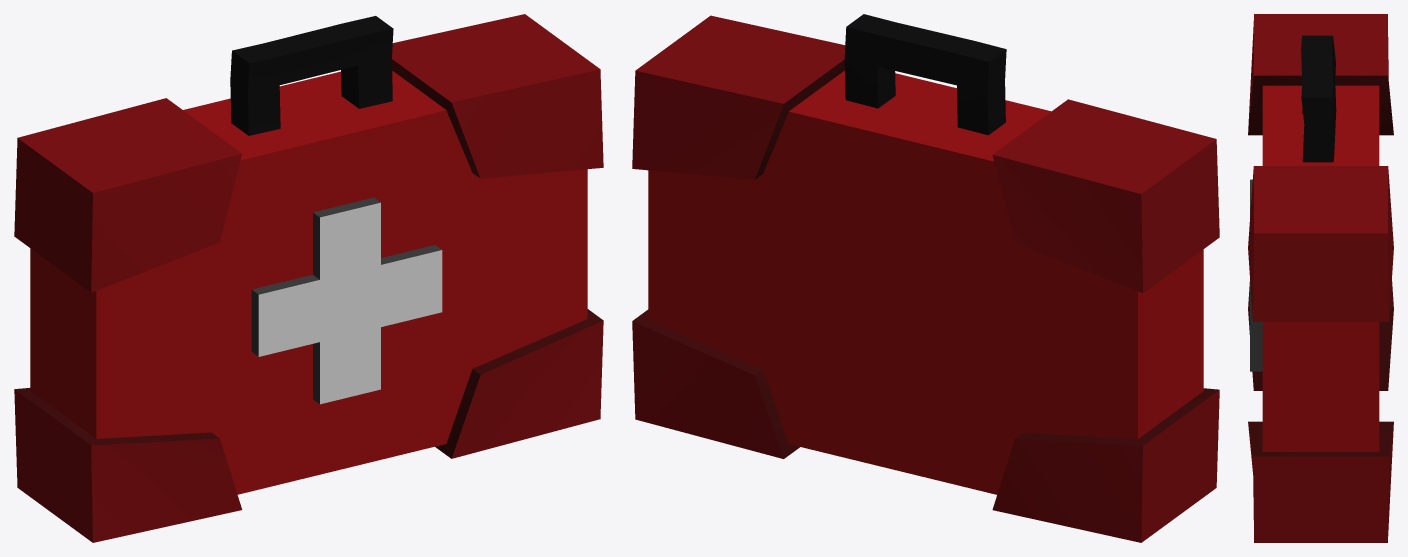
The model's file is MEDICAL_KIT_00I.fbx.
The picture shows the model from 3 angles, left to right: view 1: azimuth 30°, elevation 25°; view 2: azimuth 150°, elevation 25°; view 3: azimuth 270°, elevation 25°; orthographic projection. The views are drawn at different scales.
Visible parts, largest first — view 1: MEDICAL_KIT_00I; view 2: MEDICAL_KIT_00I; view 3: MEDICAL_KIT_00I.
Part boxes in pixels (x1,y1,x2,y2): MEDICAL_KIT_00I: (14, 14, 603, 542); MEDICAL_KIT_00I: (632, 14, 1219, 542); MEDICAL_KIT_00I: (1248, 14, 1393, 542).
Size of the model in its own units: 0.7196 by 0.5612 by 0.2006.
